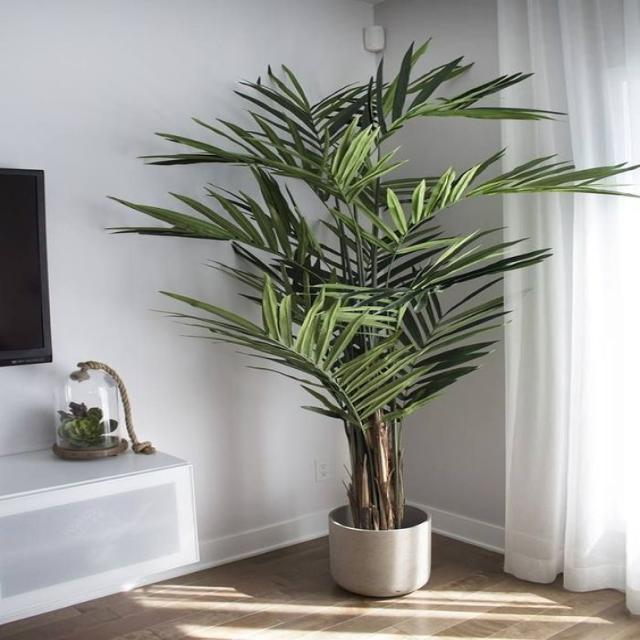obstacle: (0, 442, 200, 624)
